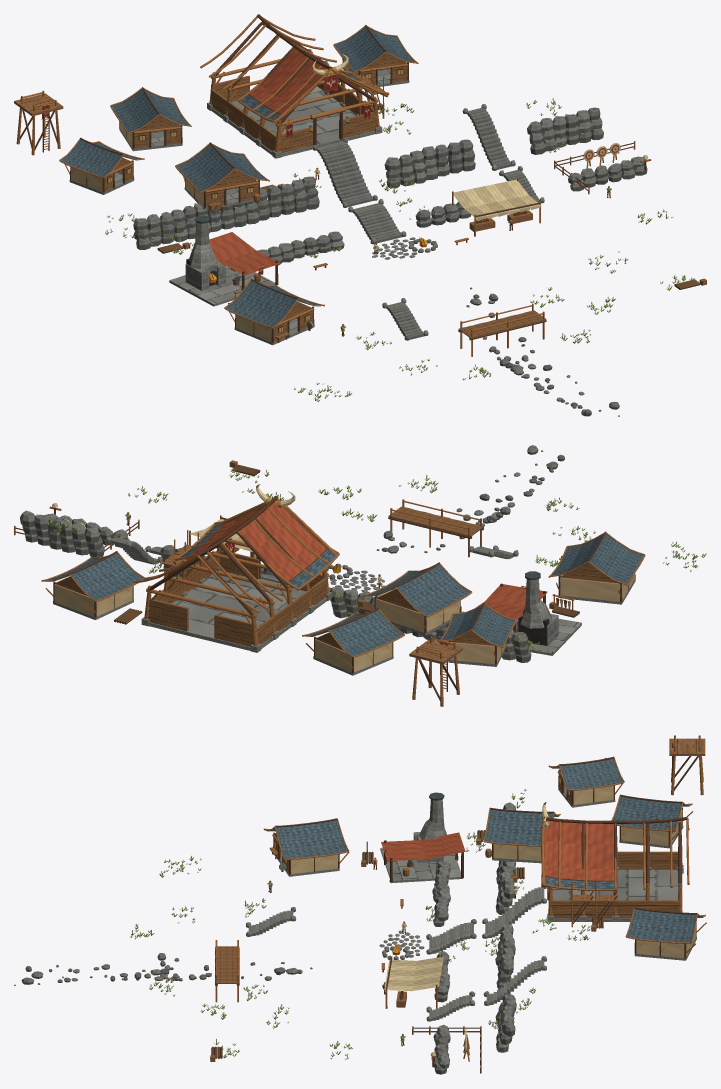
The model's file is phase_2.glb.
3 views of the same model, one above another, from view 1: azimuth 30°, elevation 25°; view 2: azimuth 150°, elevation 25°; view 3: azimuth 270°, elevation 25° (orthographic). The views are drawn at different scales.
Parts seen in each view (by area): view 1: Praca_pontes_escadas_F2, hall_F2, forge_F2, store_F2, workshop_F2, house_a_F2, house_c_F2, house_b_F2, market_F2, tower_F2, training_F2; view 2: hall_F2, Praca_pontes_escadas_F2, workshop_F2, store_F2, house_c_F2, house_a_F2, forge_F2, house_b_F2, tower_F2; view 3: Praca_pontes_escadas_F2, hall_F2, forge_F2, workshop_F2, house_c_F2, store_F2, house_a_F2, house_b_F2, market_F2, tower_F2, training_F2.
Part boxes in pixels (<box>): Praca_pontes_escadas_F2: <box>105,98,706,416</box>; hall_F2: <box>200,14,389,158</box>; forge_F2: <box>169,215,280,306</box>; store_F2: <box>175,142,269,210</box>; workshop_F2: <box>224,279,324,345</box>; house_a_F2: <box>110,87,191,151</box>; house_c_F2: <box>333,25,418,89</box>; house_b_F2: <box>59,137,144,194</box>; market_F2: <box>452,178,541,236</box>; tower_F2: <box>14,90,63,155</box>; training_F2: <box>554,141,651,194</box>; hall_F2: <box>114,484,339,652</box>; Praca_pontes_escadas_F2: <box>20,445,706,662</box>; workshop_F2: <box>548,531,645,604</box>; store_F2: <box>363,562,472,635</box>; house_c_F2: <box>41,551,144,619</box>; house_a_F2: <box>302,607,404,675</box>; forge_F2: <box>476,571,581,655</box>; house_b_F2: <box>438,603,516,666</box>; tower_F2: <box>409,636,462,706</box>; Praca_pontes_escadas_F2: <box>14,789,603,1074</box>; hall_F2: <box>541,802,689,927</box>; forge_F2: <box>380,792,465,883</box>; workshop_F2: <box>263,818,349,876</box>; house_c_F2: <box>625,907,706,960</box>; store_F2: <box>483,807,560,863</box>; house_a_F2: <box>611,794,692,848</box>; house_b_F2: <box>548,756,624,807</box>; market_F2: <box>384,954,443,1009</box>; tower_F2: <box>669,735,705,795</box>; training_F2: <box>412,1026,481,1073</box>.
Bounding box in the file's own units: 81.99 × 26.24 × 96.4.
Materials: 1 (1 with a texture image).
